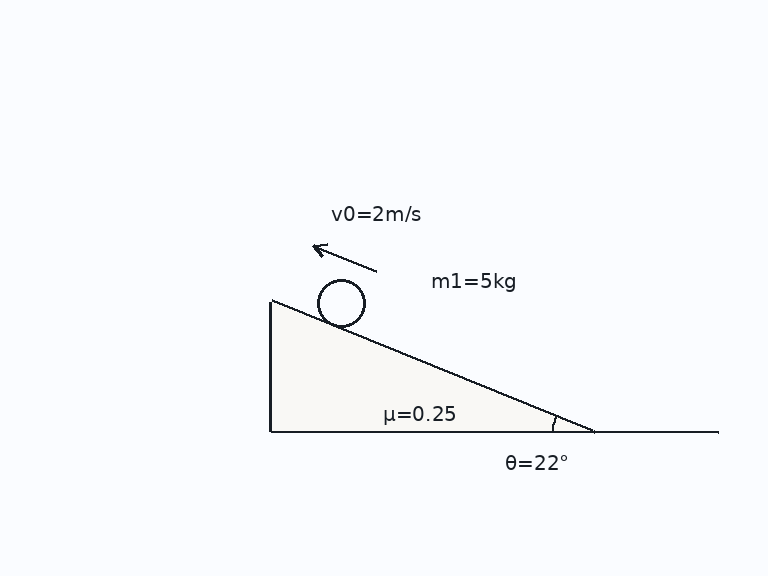ball: (315, 277, 367, 329)
ramp: (269, 299, 595, 433)
